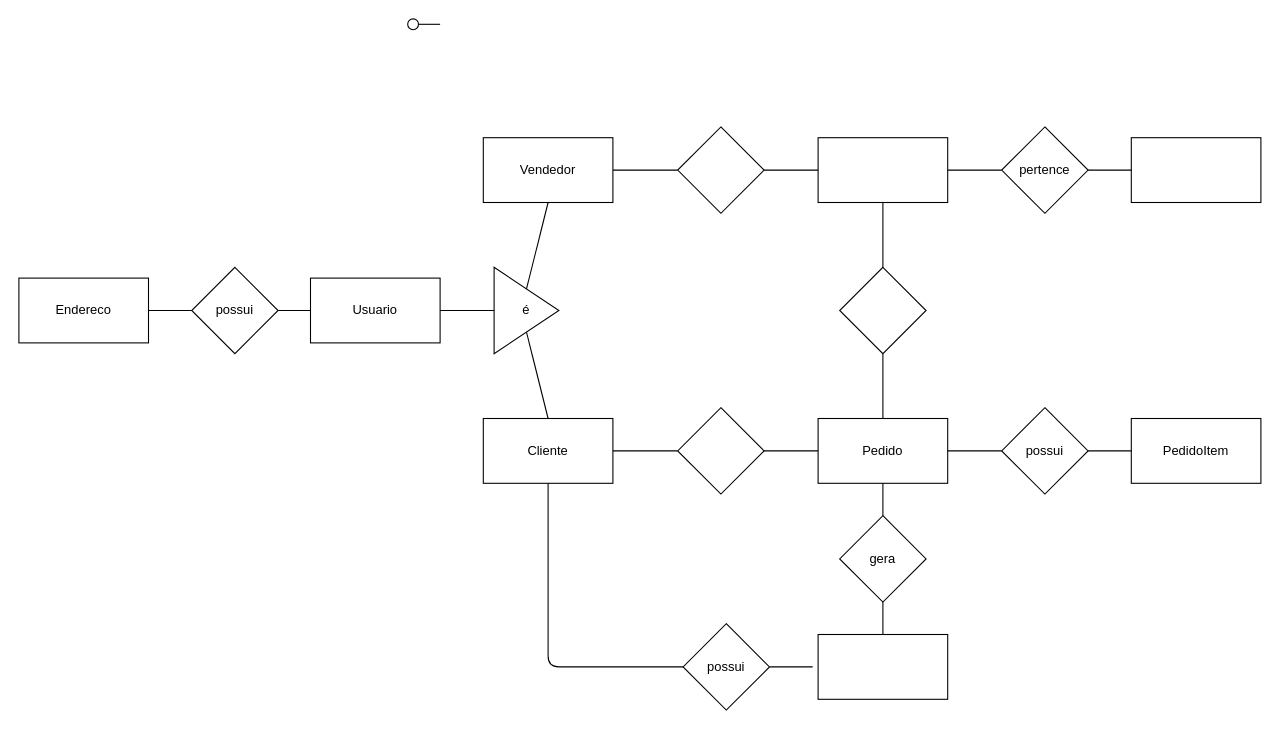
Image size: 1280x729. Some labels were removed from this diagram. Each missing label, with the centre of its shape:
"Categoria" belongs at [1195,169].
"fornece" belongs at [720,169].
"NotaFiscal" belongs at [882,666].
"Produto" belongs at [882,169].
"realiza" belongs at [720,450].
"tem" belongs at [882,310].
